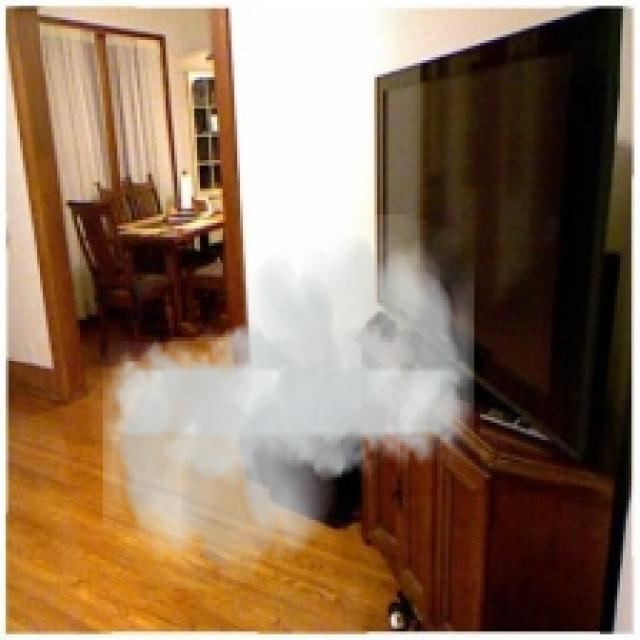Smoke: (102, 214, 474, 589)
